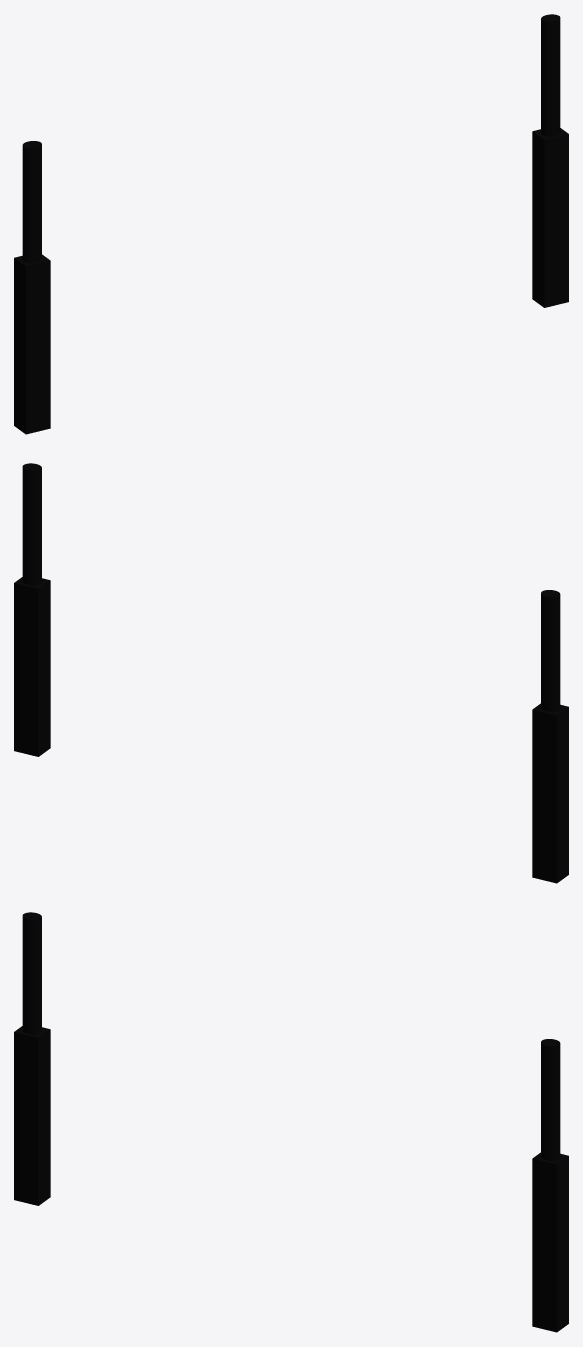
File: posts.glb
3 views of the same model, one above another, from view 1: azimuth 30°, elevation 25°; view 2: azimuth 150°, elevation 25°; view 3: azimuth 330°, elevation 25° (orthographic).
Parts seen in each view (by area): view 1: Cylinder; view 2: Cylinder; view 3: Cylinder.
Boxes of the visible parts, left/top/right/bottom form: Cylinder: left=14, top=14, right=568, bottom=434; Cylinder: left=14, top=463, right=568, bottom=883; Cylinder: left=14, top=912, right=568, bottom=1332.
Bounding box in the file's own units: 217 × 108 × 8.27.
Materials: 1 (1 with a texture image).
